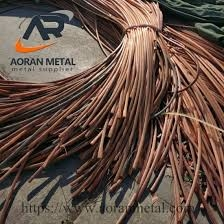metal: (67, 1, 178, 211)
